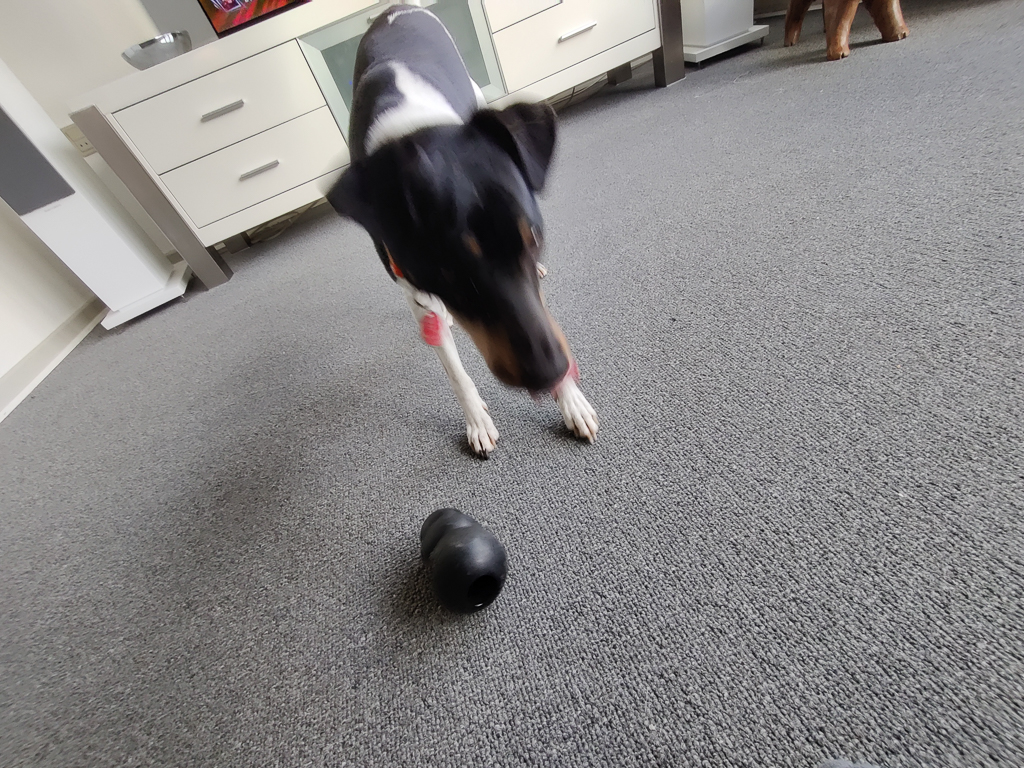Cattle: (765, 0, 926, 72)
Dog: (310, 0, 635, 500)
